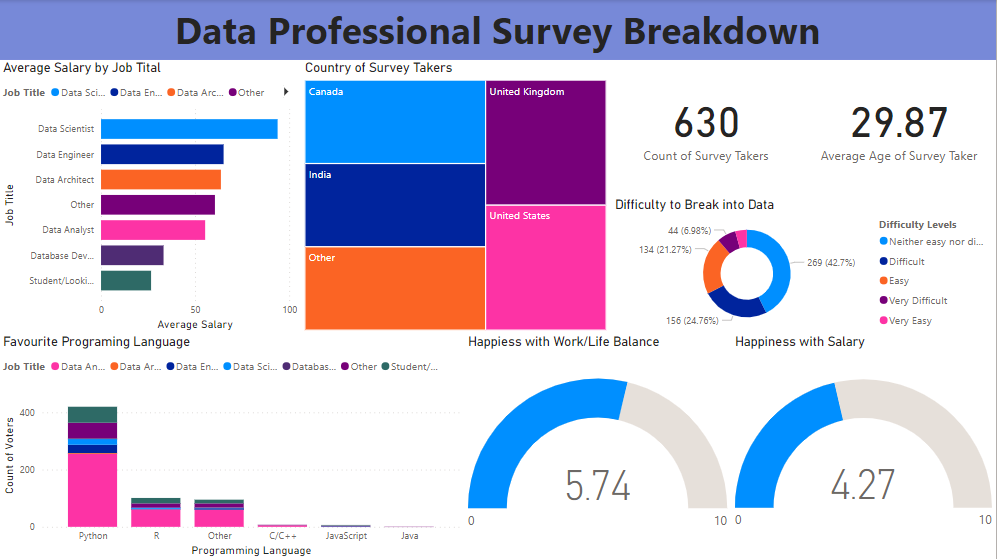

The dashboard page shown, as its layout file describes it:
{"tool":"powerbi","page":{"name":"Page 1","canvas":[1280,720],"ordinal":0},"visuals":[{"type":"textbox","box":[10,0,280,280],"z":0},{"type":"textbox","box":[0,0,1280.5,76.6],"z":1000},{"type":"card","fields":{"Values":["Count(Data Professional Survey.Unique ID)"]},"box":[784.4,76.6,246.8,167.5],"z":2000},{"type":"card","fields":{"Values":["Avg(Data Professional Survey.Q10 - Current Age)"]},"box":[1031.2,76.6,249.4,167.5],"z":3000},{"type":"barChart","title":"Average Salary by Job Tital","fields":{"Category":["Data Professional Survey.Q1 - Which Title Best Fits your Current Role?.1"],"Y":["Avg(Data Professional Survey.Average Salary)"],"Series":["Data Professional Survey.Q1 - Which Title Best Fits your Current Role?.1"]},"box":[0,77,387.7,351.8],"z":4000},{"type":"columnChart","title":"Favourite Programing Language","fields":{"Category":["Data Professional Survey.Q5 - Favorite Programming Language.1"],"Y":["CountNonNull(Data Professional Survey.Unique ID)"],"Series":["Data Professional Survey.Q1 - Which Title Best Fits your Current Role?.1"]},"box":[0,428.6,597.4,290.9],"z":5000},{"type":"treemap","title":"Country of Survey Takers","fields":{"Group":["Data Professional Survey.Q11 - Which Country do you live in?.1"],"Values":["Count(Data Professional Survey.Q11 - Which Country do you live in?.1)"]},"box":[387.7,77,396.7,351.8],"z":6000},{"type":"gauge","title":"Happiess with Work/Life Balance","fields":{"Y":["Avg(Data Professional Survey.Q6 - How Happy are you in your Current Position with the following? (Work/Life Balance))"],"MinValue":["Min(Data Professional Survey.Q6 - How Happy are you in your Current Position with the following? (Work/Life Balance))"],"MaxValue":["Max(Data Professional Survey.Q6 - How Happy are you in your Current Position with the following? (Work/Life Balance))"]},"box":[597.4,428.6,342.9,290.9],"z":7000},{"type":"gauge","title":"Happiness with Salary","fields":{"Y":["Avg(Data Professional Survey.Q6 - How Happy are you in your Current Position with the following? (Salary))"],"MinValue":["Min(Data Professional Survey.Q6 - How Happy are you in your Current Position with the following? (Salary))"],"MaxValue":["Max(Data Professional Survey.Q6 - How Happy are you in your Current Position with the following? (Salary))"]},"box":[940,428.6,340,291.4],"z":8000},{"type":"donutChart","title":"Difficulty to Break into Data","fields":{"Category":["Data Professional Survey.Q7 - How difficult was it for you to break into Data?"],"Y":["CountNonNull(Data Professional Survey.Q7 - How difficult was it for you to break into Data?)"]},"box":[785.7,253.2,494.8,175.3],"z":9000}]}

Visuals, with their boxes in screenshot pixels (x1, y1, x2, y2), scaled from the page's 1280x720 canvas onto the 997x559 screenshot:
textbox: crop(8, 0, 226, 217)
textbox: crop(0, 0, 996, 59)
card - Count(Data Professional Survey.Unique ID): crop(611, 59, 803, 190)
card - Avg(Data Professional Survey.Q10 - Current Age): crop(803, 59, 996, 190)
"Average Salary by Job Tital" barChart: crop(0, 60, 302, 333)
"Favourite Programing Language" columnChart: crop(0, 333, 465, 558)
"Country of Survey Takers" treemap: crop(302, 60, 611, 333)
"Happiess with Work/Life Balance" gauge: crop(465, 333, 732, 558)
"Happiness with Salary" gauge: crop(732, 333, 996, 558)
"Difficulty to Break into Data" donutChart: crop(612, 197, 996, 333)
